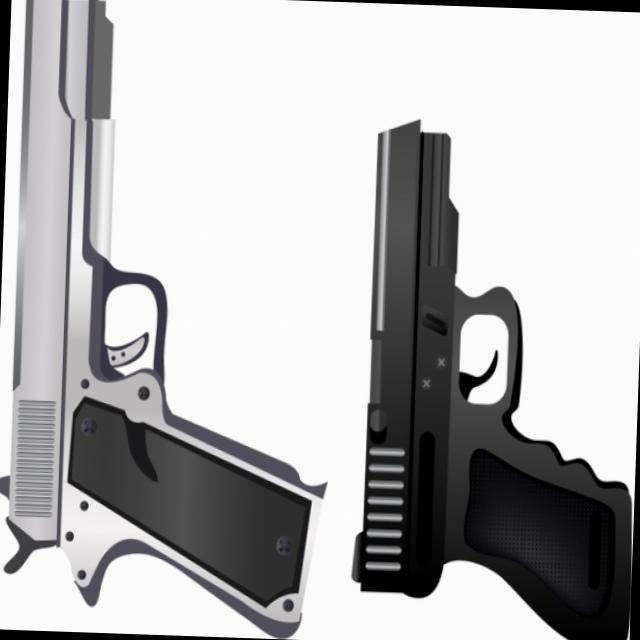handgun: (0, 0, 335, 637)
